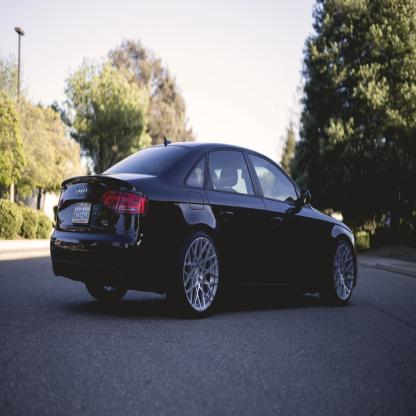Car: (51, 137, 359, 317)
